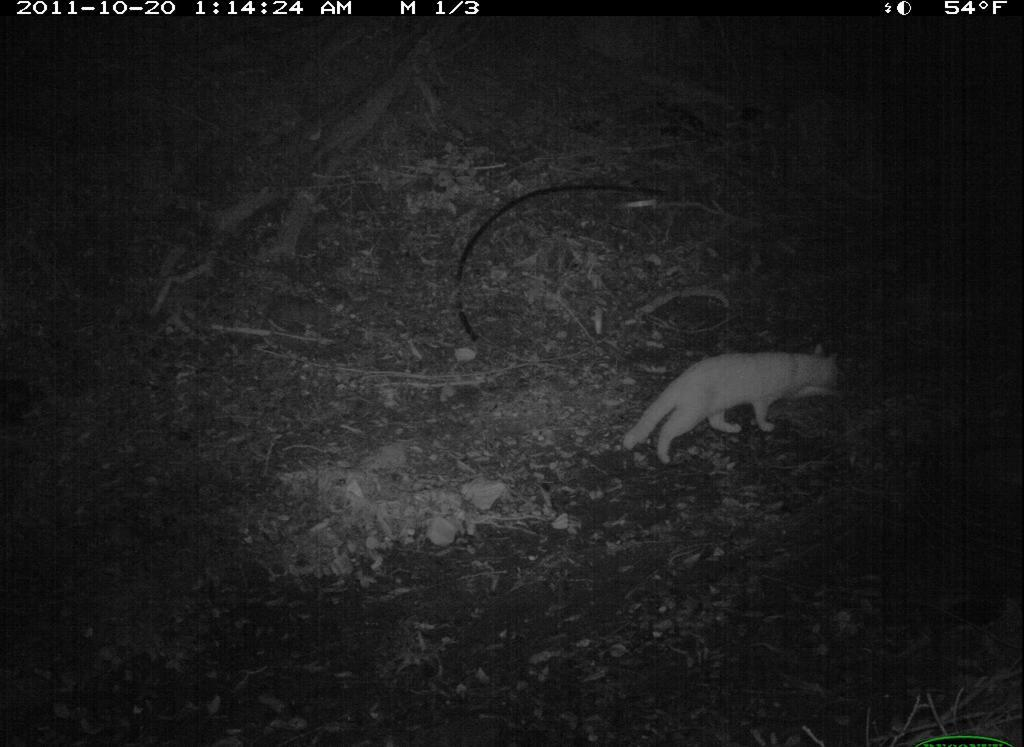cat: (643, 294, 886, 491)
